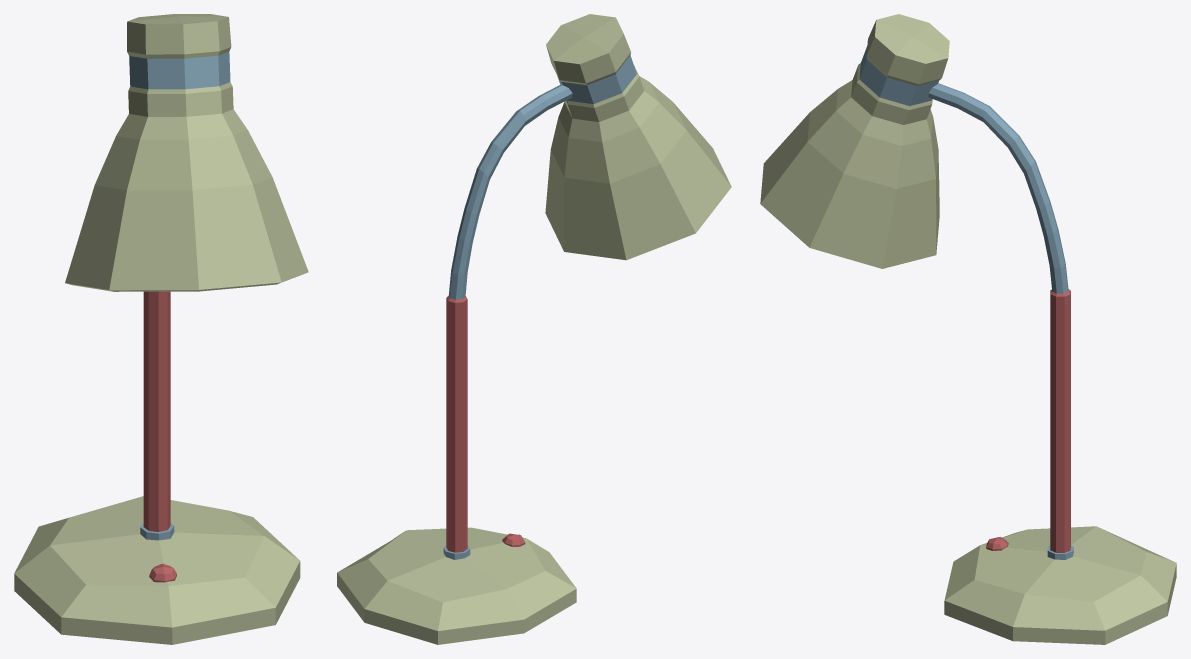
The model's file is Garage_Lamp.fbx.
3 renders of one model, left to right at view 1: azimuth 30°, elevation 25°; view 2: azimuth 150°, elevation 25°; view 3: azimuth 270°, elevation 25°, orthographic. The views are drawn at different scales.
Visible parts, largest first — view 1: Garage_Lamp; view 2: Garage_Lamp; view 3: Garage_Lamp.
Boxes of the visible parts, x1,y1,x2,y2 form: Garage_Lamp: [14, 14, 308, 644]; Garage_Lamp: [337, 14, 731, 644]; Garage_Lamp: [760, 14, 1176, 644].
Bounding box in the file's own units: 35.47 × 70.31 × 48.99.
